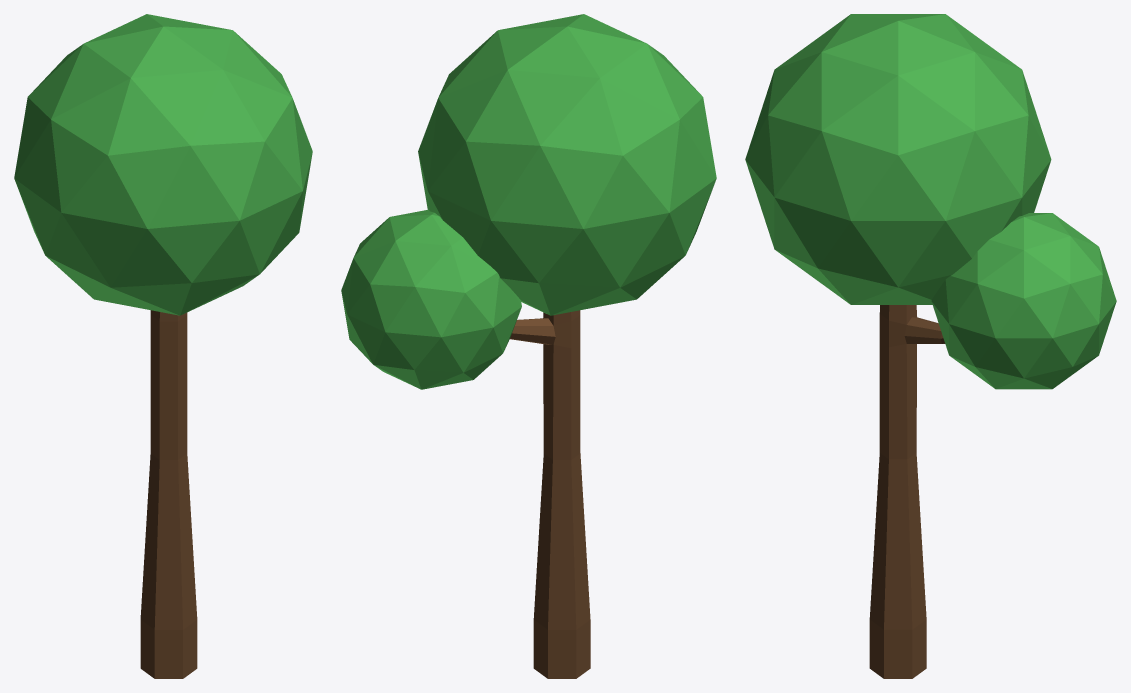
The model's file is CircleTree_Summer.fbx.
3 renders of one model, left to right at view 1: azimuth 30°, elevation 25°; view 2: azimuth 150°, elevation 25°; view 3: azimuth 270°, elevation 25°, orthographic.
Parts seen in each view (by area): view 1: CircleTree_Summer; view 2: CircleTree_Summer; view 3: CircleTree_Summer.
Part boxes in pixels (bbox=[...]): CircleTree_Summer: bbox=[14, 14, 312, 678]; CircleTree_Summer: bbox=[341, 14, 716, 678]; CircleTree_Summer: bbox=[745, 14, 1116, 678].
Size of the model in its own units: 147 by 330 by 172.
